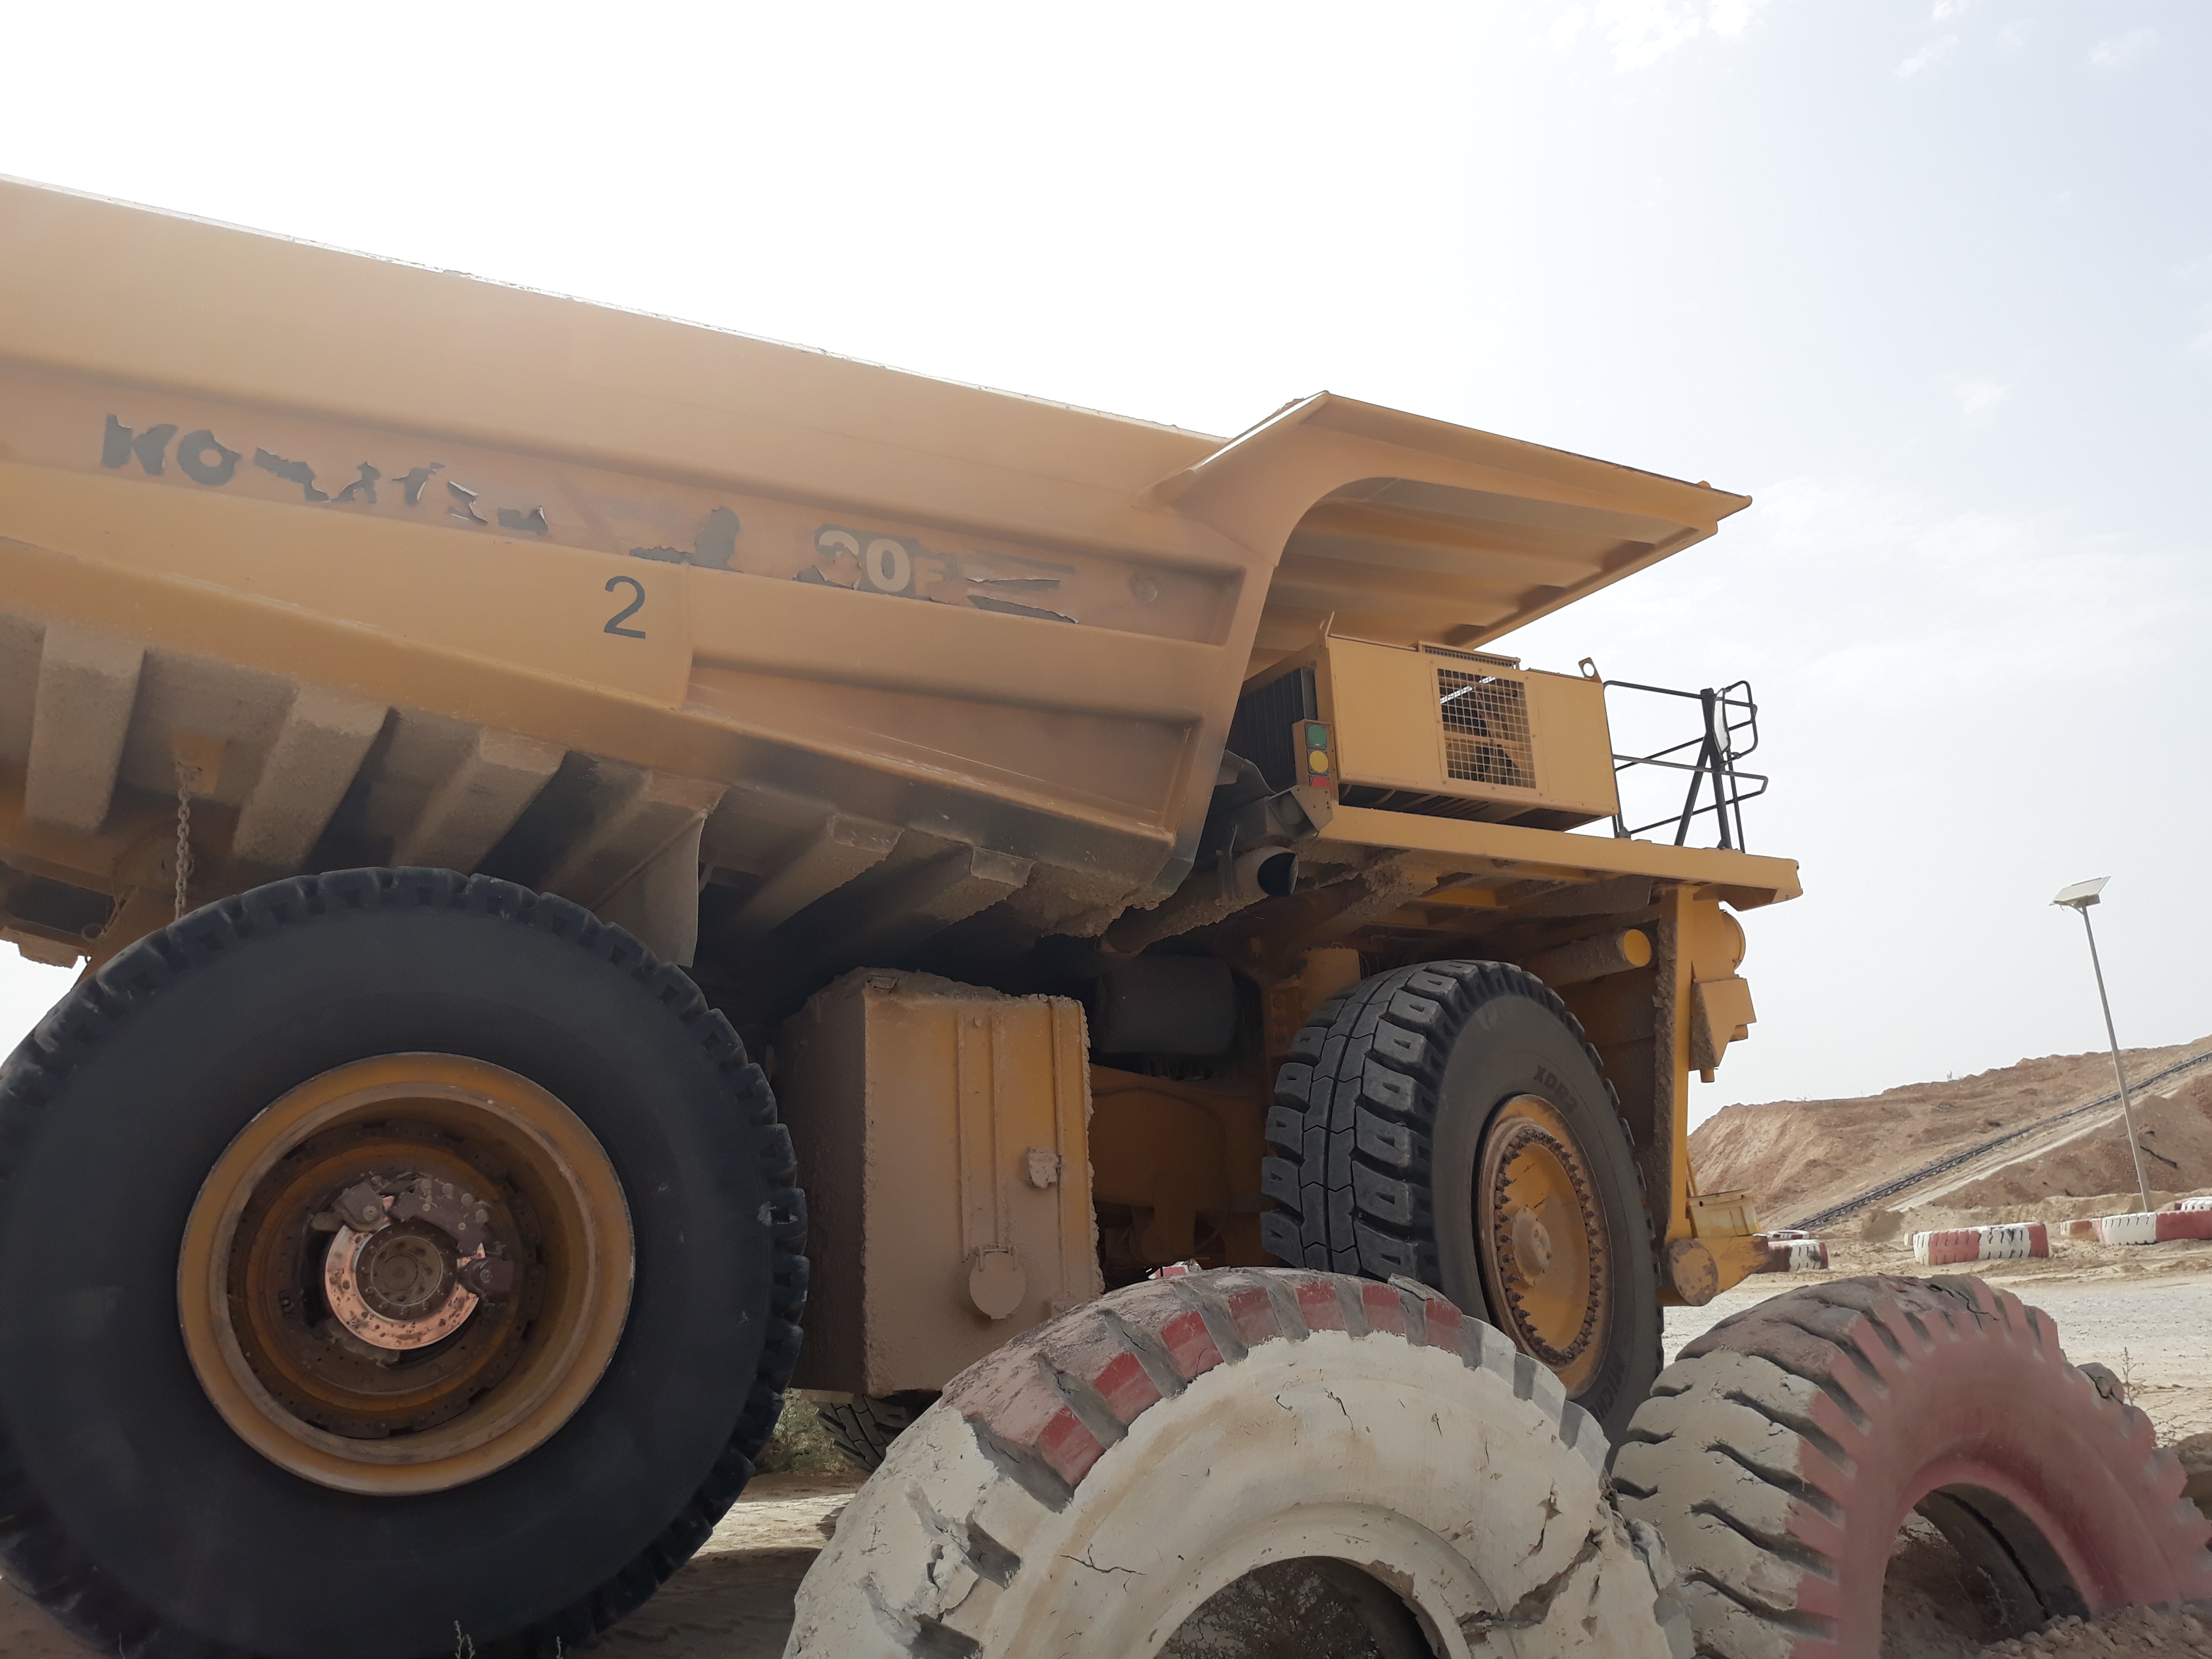camion: (0, 178, 1818, 1650)
